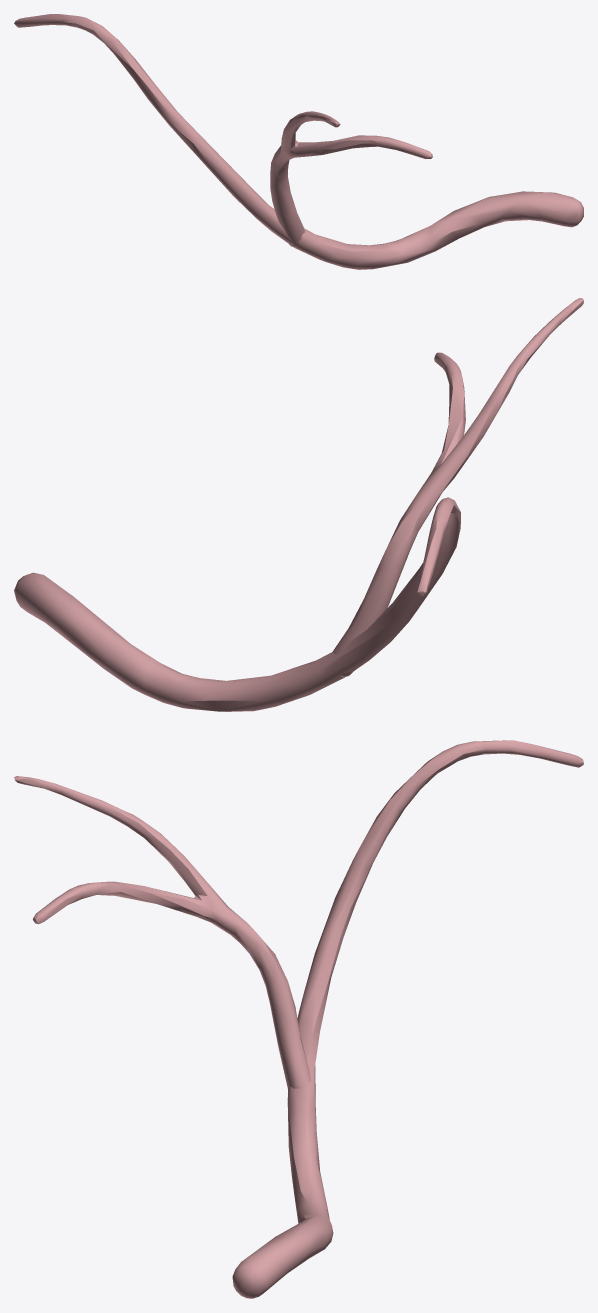
File: fma71885_cx222.glb
The picture shows the model from 3 angles, top to bottom: view 1: azimuth 30°, elevation 25°; view 2: azimuth 150°, elevation 25°; view 3: azimuth 270°, elevation 25°; orthographic projection. The views are drawn at different scales.
Visible parts, largest first — view 1: FMA71885_CX222; view 2: FMA71885_CX222; view 3: FMA71885_CX222.
Boxes of the visible parts, x1=… form: FMA71885_CX222: x1=14, y1=14, x2=583, y2=269; FMA71885_CX222: x1=14, y1=298, x2=583, y2=711; FMA71885_CX222: x1=14, y1=740, x2=583, y2=1298.
Bounding box in the file's own units: 0.0311 × 0.0182 × 0.0273.
